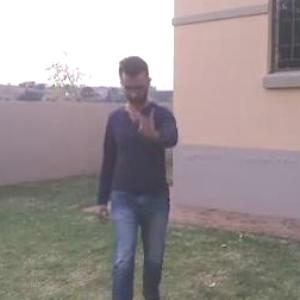takeoff-hand: (133, 99, 164, 140)
